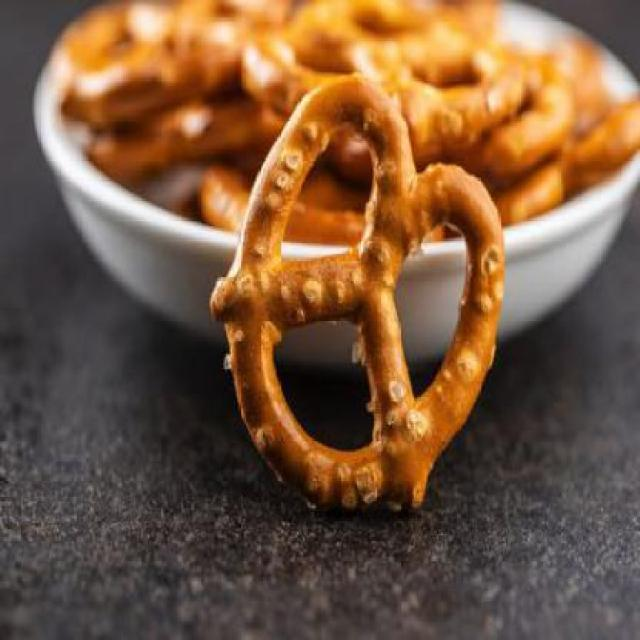Salatini packaged: (216, 74, 507, 512)
